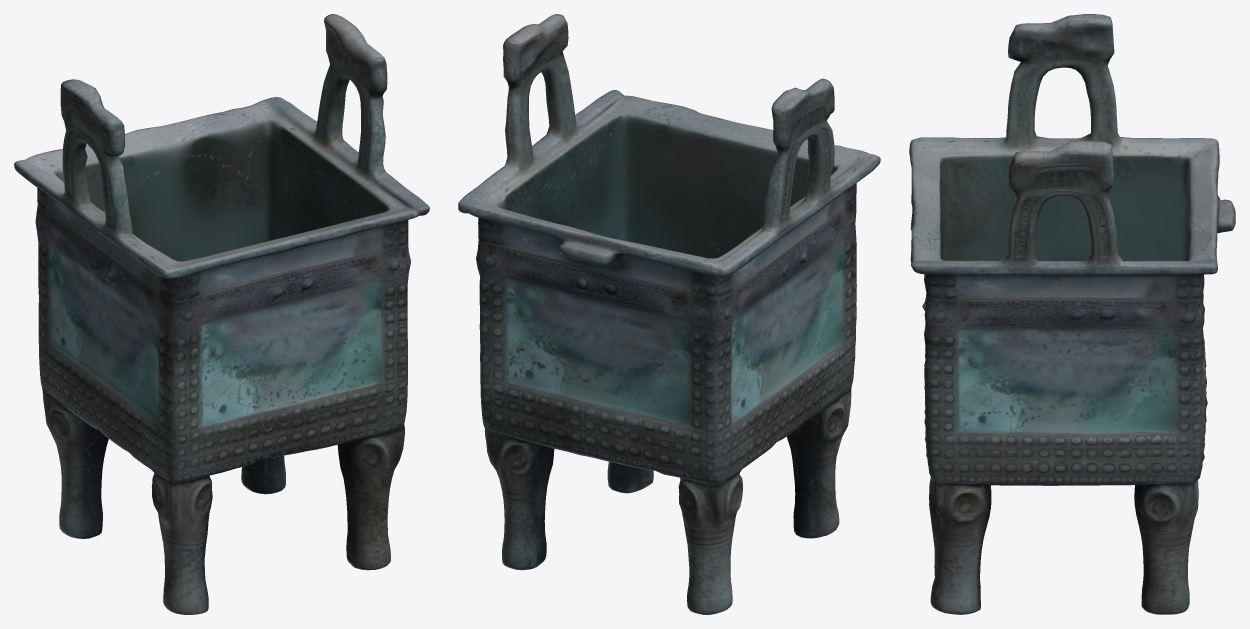
Rendered from 01-shang-tiger-ding.glb.
The picture shows the model from 3 angles, left to right: view 1: azimuth 30°, elevation 25°; view 2: azimuth 150°, elevation 25°; view 3: azimuth 270°, elevation 25°; orthographic projection.
Visible parts, largest first — view 1: Retopo_node_0.001; view 2: Retopo_node_0.001; view 3: Retopo_node_0.001.
Boxes of the visible parts, left/top/right/bottom form: Retopo_node_0.001: left=14, top=14, right=429, bottom=614; Retopo_node_0.001: left=458, top=14, right=880, bottom=614; Retopo_node_0.001: left=909, top=14, right=1235, bottom=614.
Size of the model in its own units: 61.06 by 100 by 61.2.
Materials: 1 (1 with a texture image).
